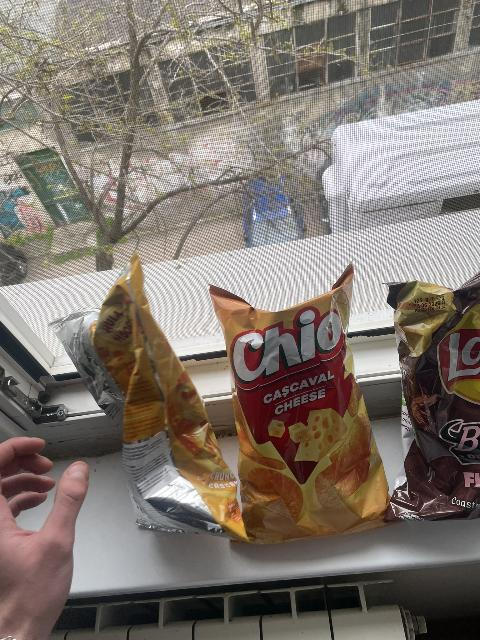Chio Cascaval 125g: (206, 261, 393, 539)
Chio Hula Hoops Cheese 70g: (46, 250, 249, 544)
Lays Beef Grilled Ribs 125g: (388, 278, 480, 523)
